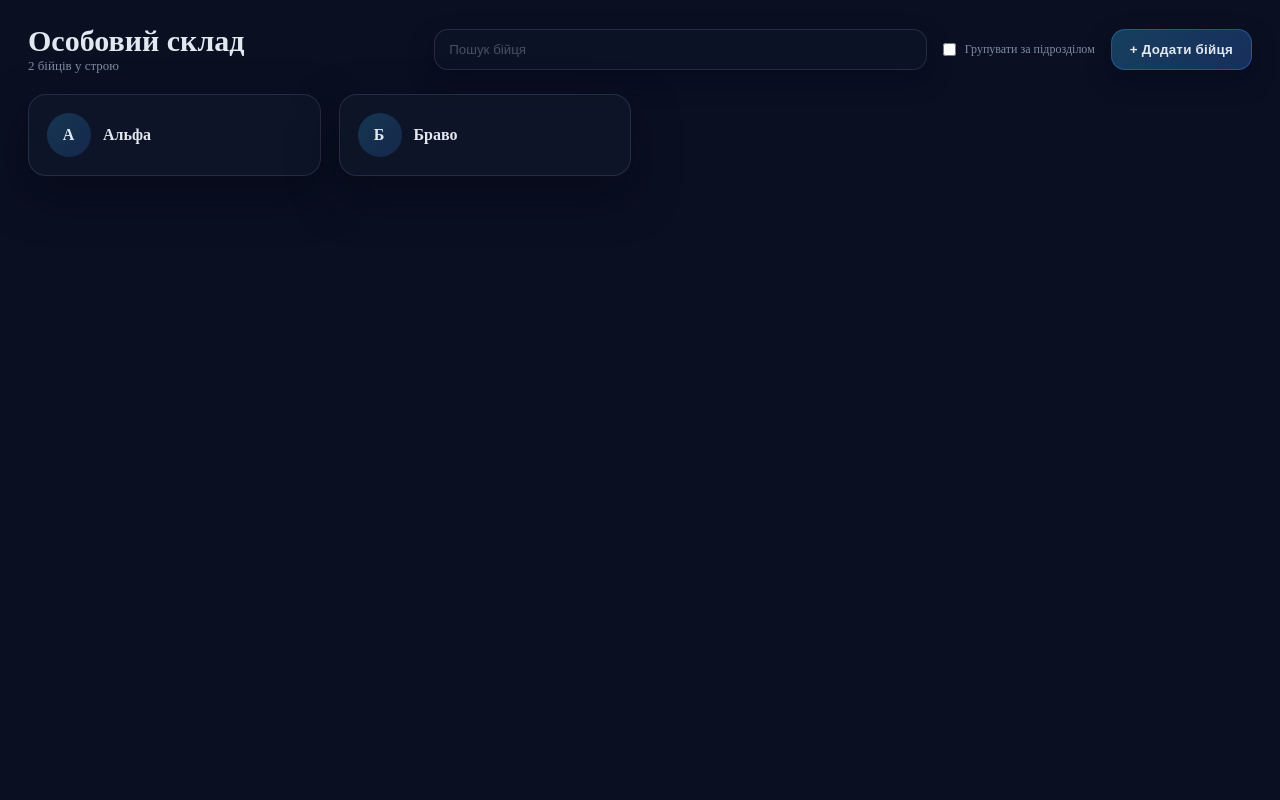
it: Fighters page › opens profile modal, navigates between fighters, and deletes with confirmation
The image size is (1280, 800).
Click the text "Альфа" at (127,134), box [103, 126, 151, 143]
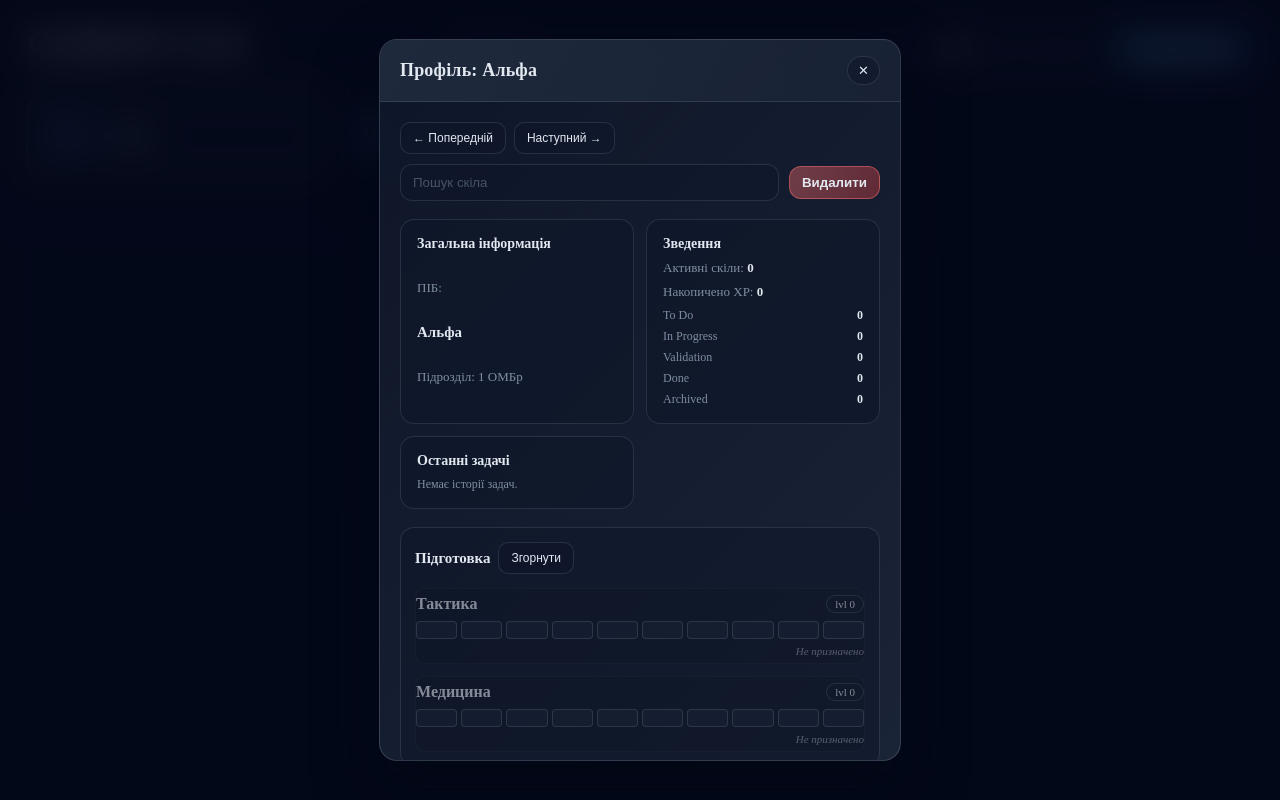
Expected: the text "Профіль: Альфа" is shown, [400, 60, 537, 80]
Click the button "Наступний →" at (564,138), box [514, 122, 615, 154]
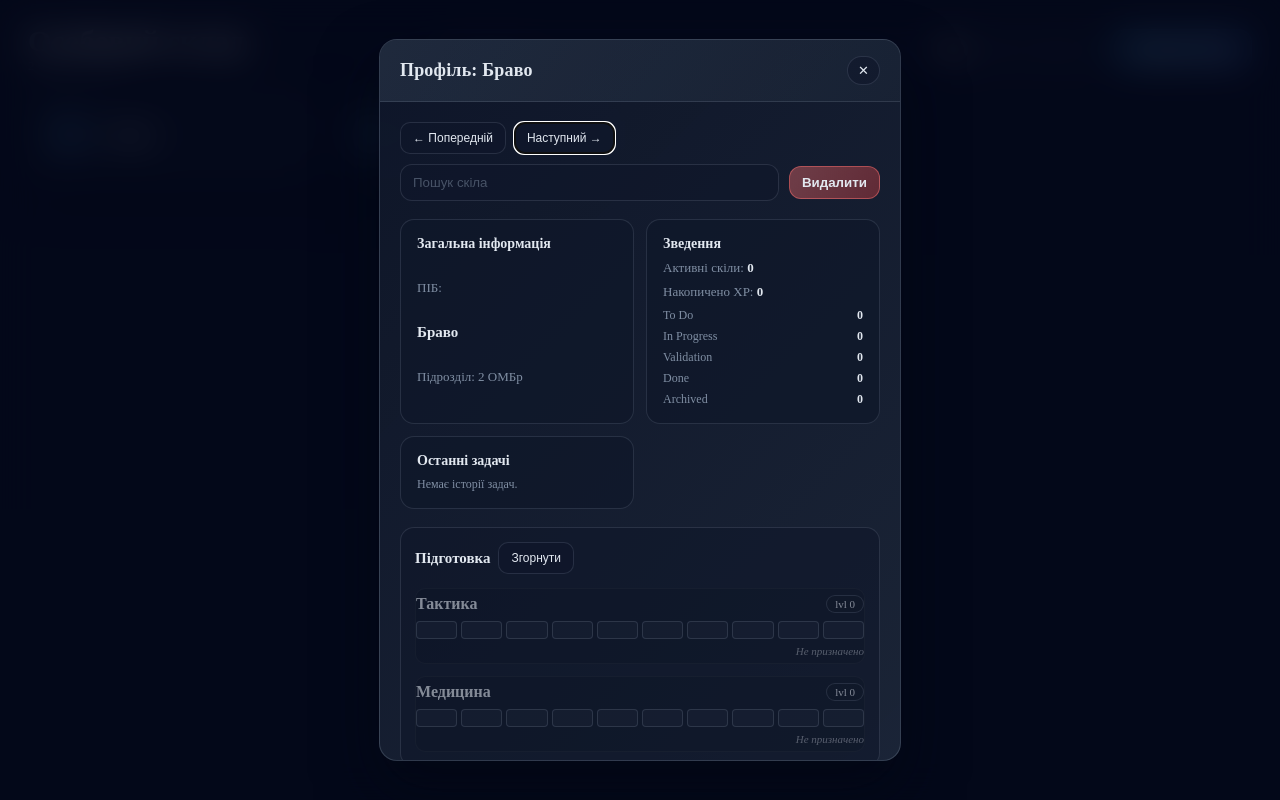
Expected: the text "Профіль: Браво" is shown, [400, 60, 533, 80]
Click the button "Видалити" at (834,182), box [789, 166, 880, 199]
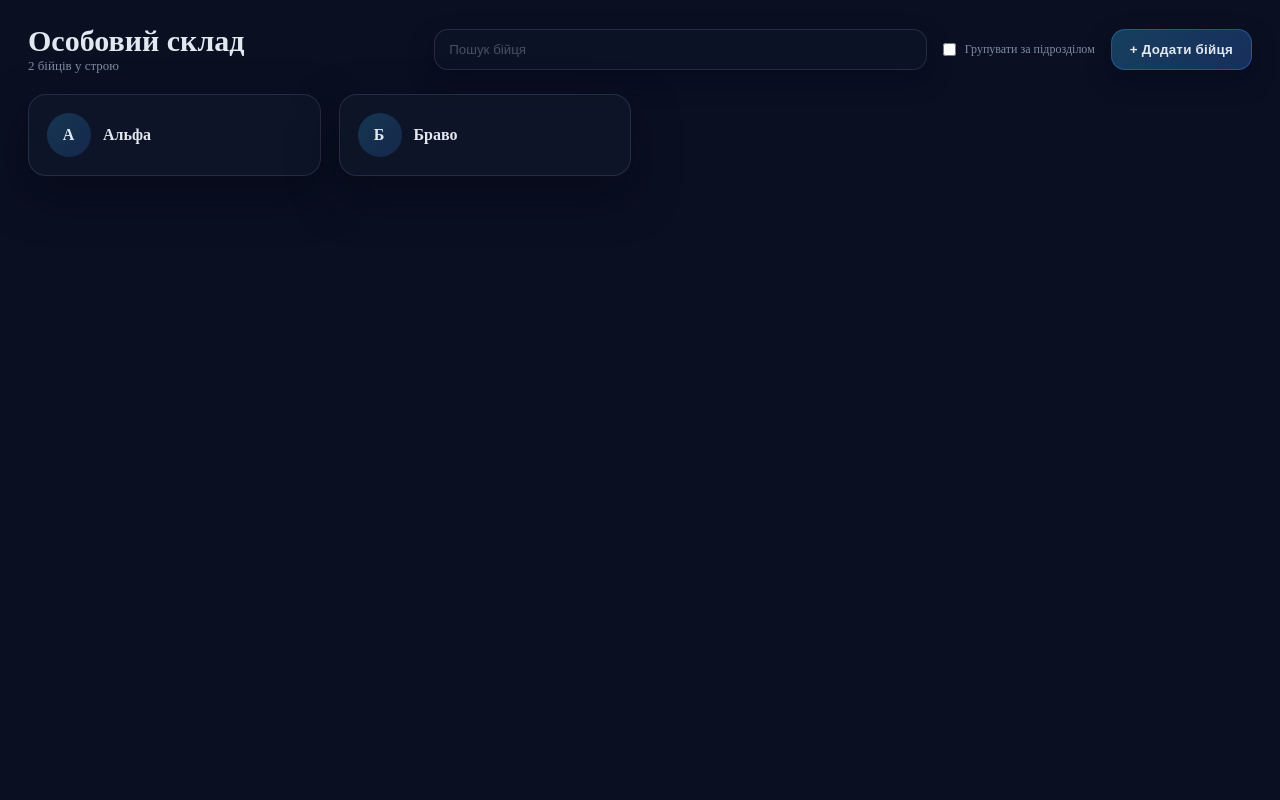
Expected: the text "Профіль: Браво" is gone
